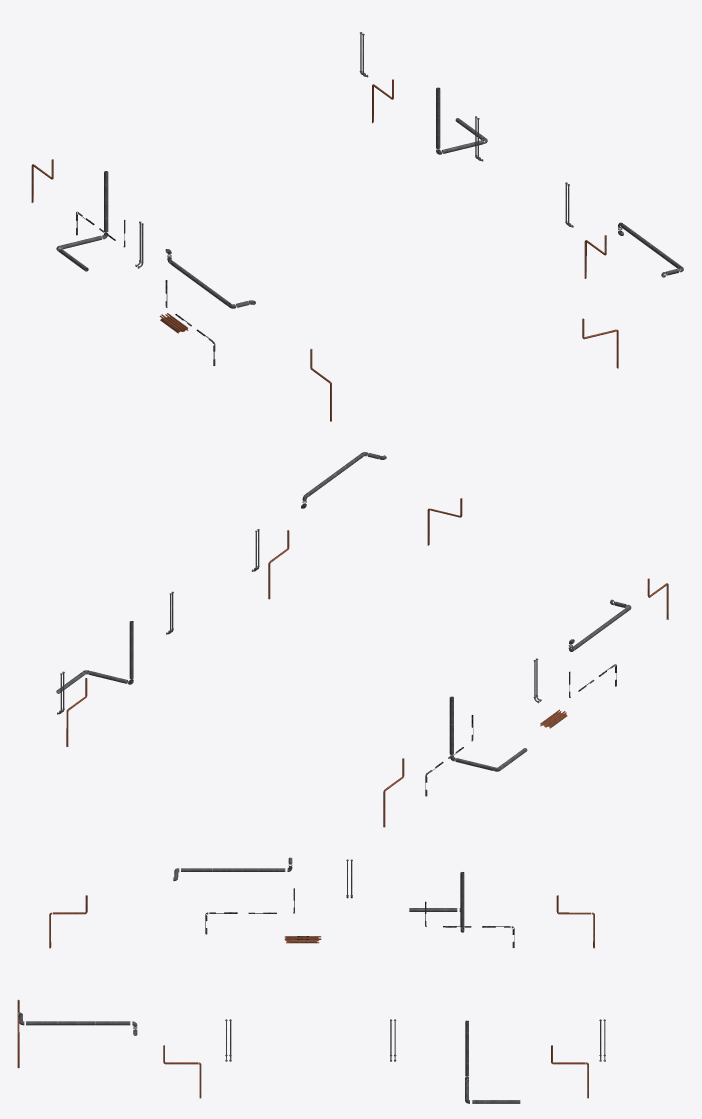
File: PipeGrp.fbx
3 renders of one model, top to bottom at view 1: azimuth 30°, elevation 25°; view 2: azimuth 150°, elevation 25°; view 3: azimuth 270°, elevation 25°, orthographic. The views are drawn at different scales.
Visible parts, largest first — view 1: pipeBassRCorner1, pipeBassLCorner1; view 2: pipeBassRCorner1, pipeBassLCorner1; view 3: PipeBassL1, PipeBassR1, pipeBassLCorner1, pipeBassRCorner1.
Boxes of the visible parts, x1,y1,x2,y2 form: pipeBassRCorner1: (56,171,108,271); pipeBassLCorner1: (436,87,487,154); pipeBassRCorner1: (449,696,527,771); pipeBassLCorner1: (56,621,133,693); PipeBassL1: (18,1012,137,1035); PipeBassR1: (173,857,292,881); pipeBassLCorner1: (465,1020,520,1103); pipeBassRCorner1: (409,872,464,932).
Bounding box in the file's own units: 38.58 × 7.21 × 56.5.
